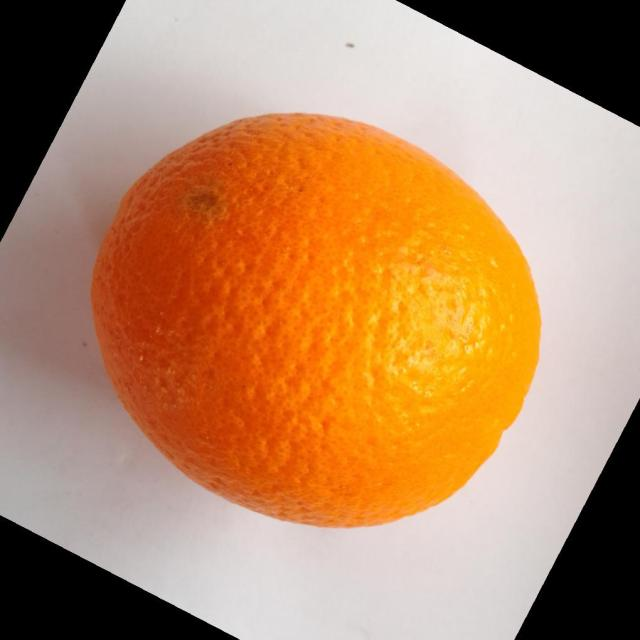fresh orange: (89, 110, 542, 529)
